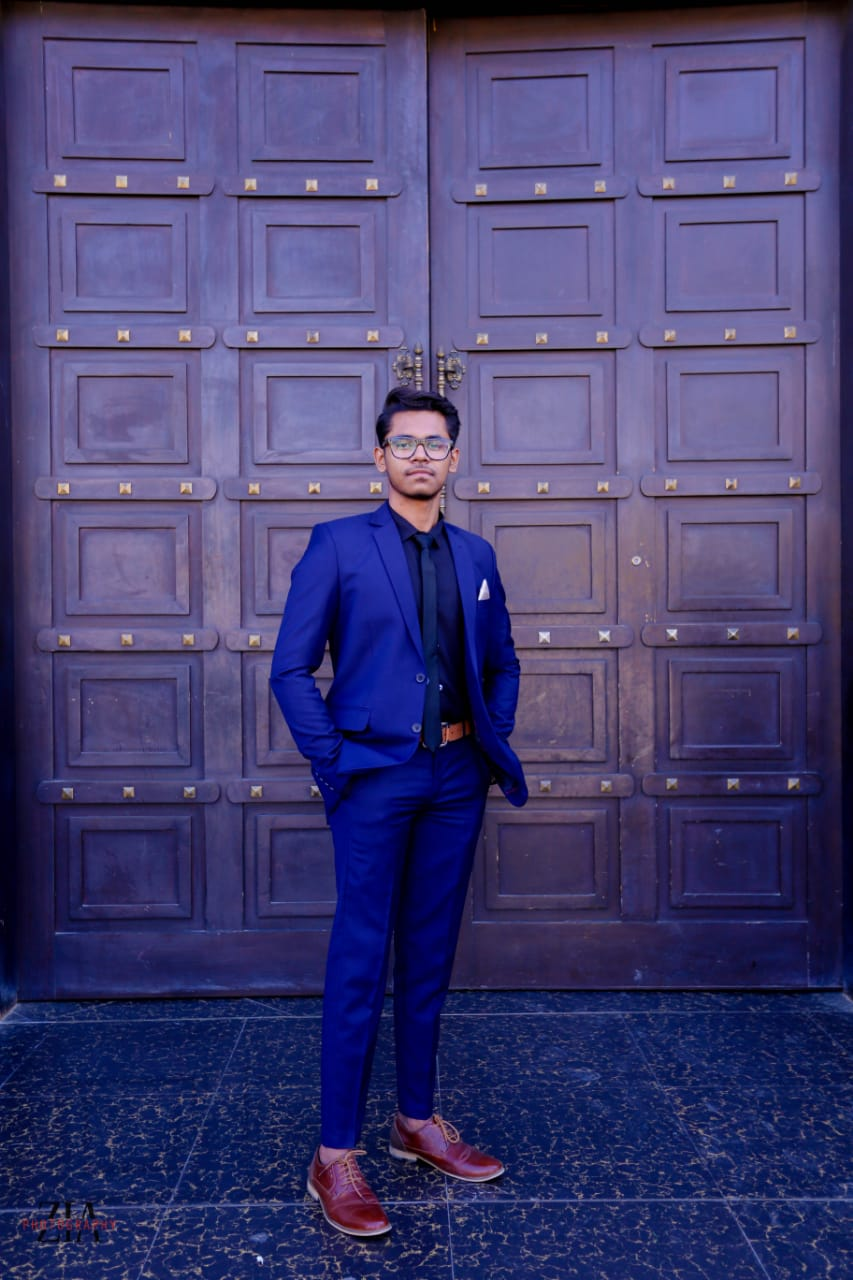NoMask: (387, 432, 448, 498)
